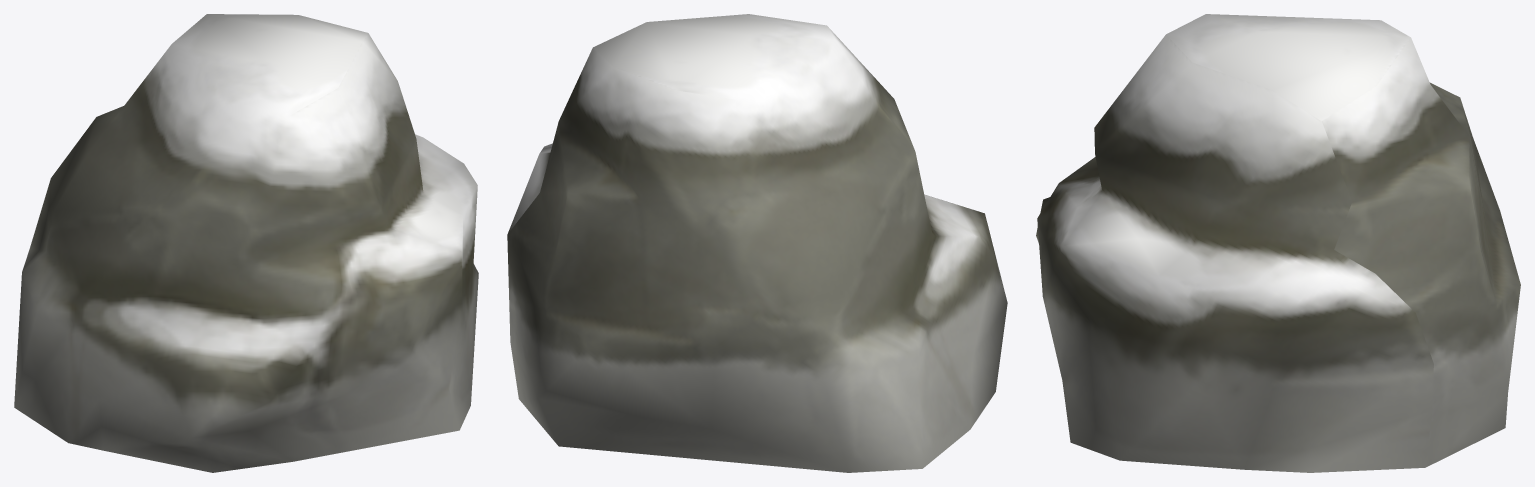
The model's file is Ice_rock_01.fbx.
The picture shows the model from 3 angles, left to right: view 1: azimuth 30°, elevation 25°; view 2: azimuth 150°, elevation 25°; view 3: azimuth 270°, elevation 25°; orthographic projection. The views are drawn at different scales.
Visible parts, largest first — view 1: Ice_rock_01; view 2: Ice_rock_01; view 3: Ice_rock_01.
Boxes of the visible parts, x1,y1,x2,y2 form: Ice_rock_01: (14, 14, 478, 472); Ice_rock_01: (507, 14, 1007, 472); Ice_rock_01: (1036, 14, 1520, 472).
Bounding box in the file's own units: 141 × 109 × 134.
